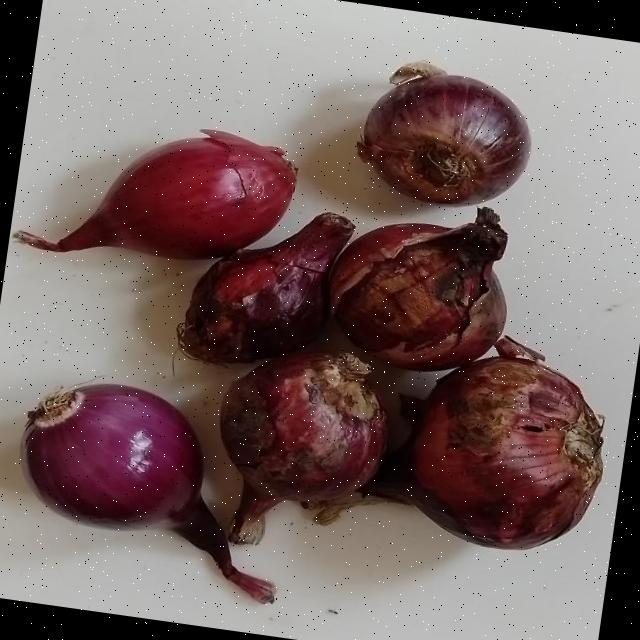Onion: (19, 383, 272, 603), (361, 355, 603, 549), (12, 129, 295, 258), (218, 350, 385, 542), (329, 206, 507, 370), (176, 211, 354, 361), (356, 60, 530, 204)
